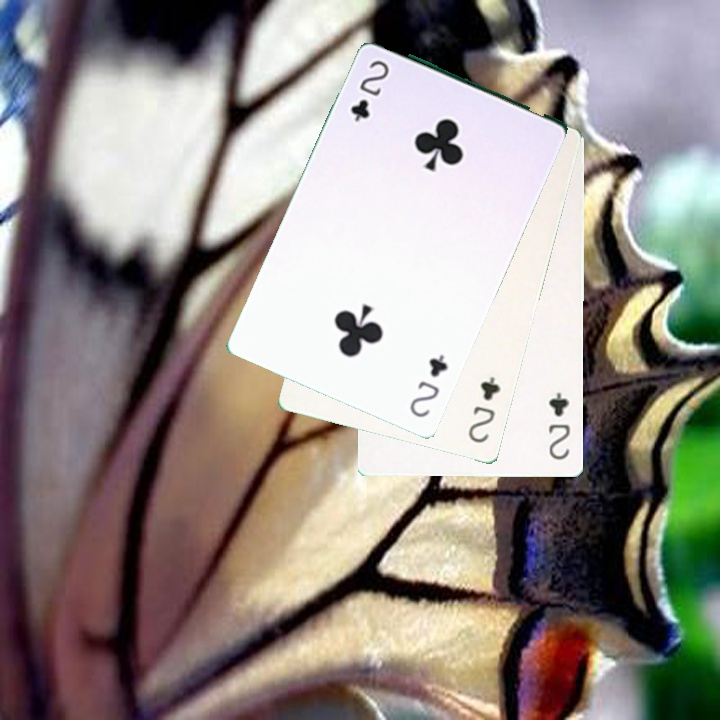2c: (405, 350, 451, 420), (346, 56, 392, 125), (464, 372, 503, 446), (545, 388, 573, 462)
